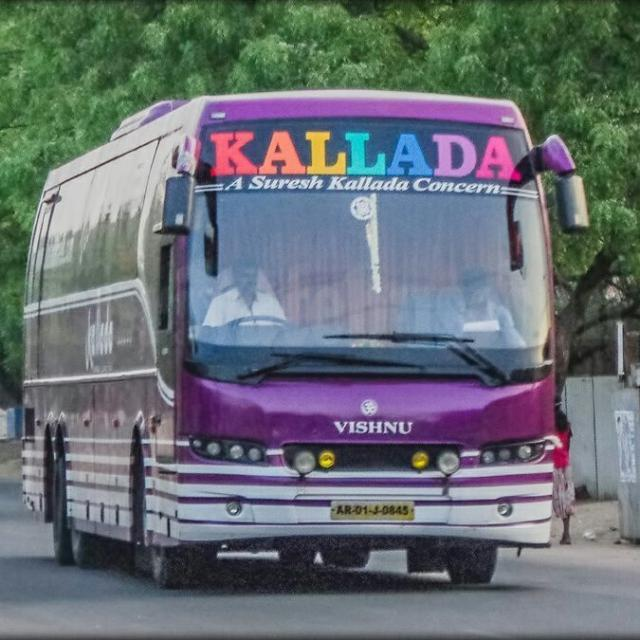Bus: (17, 82, 596, 592)
